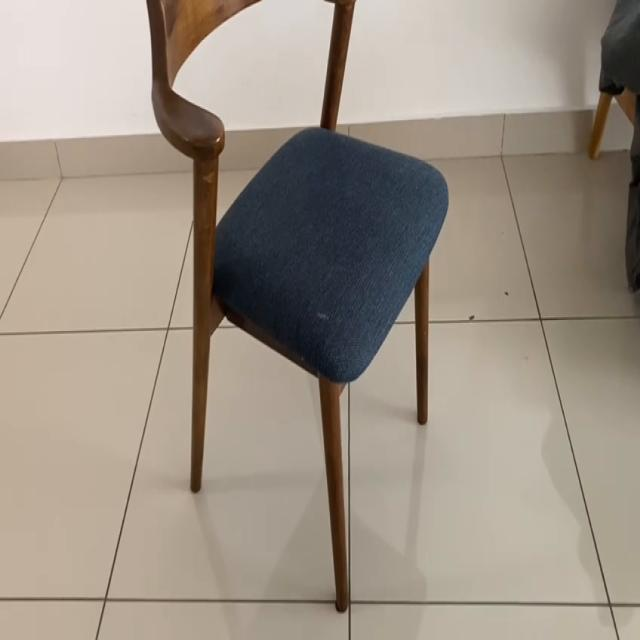Chair: (108, 0, 464, 601)
